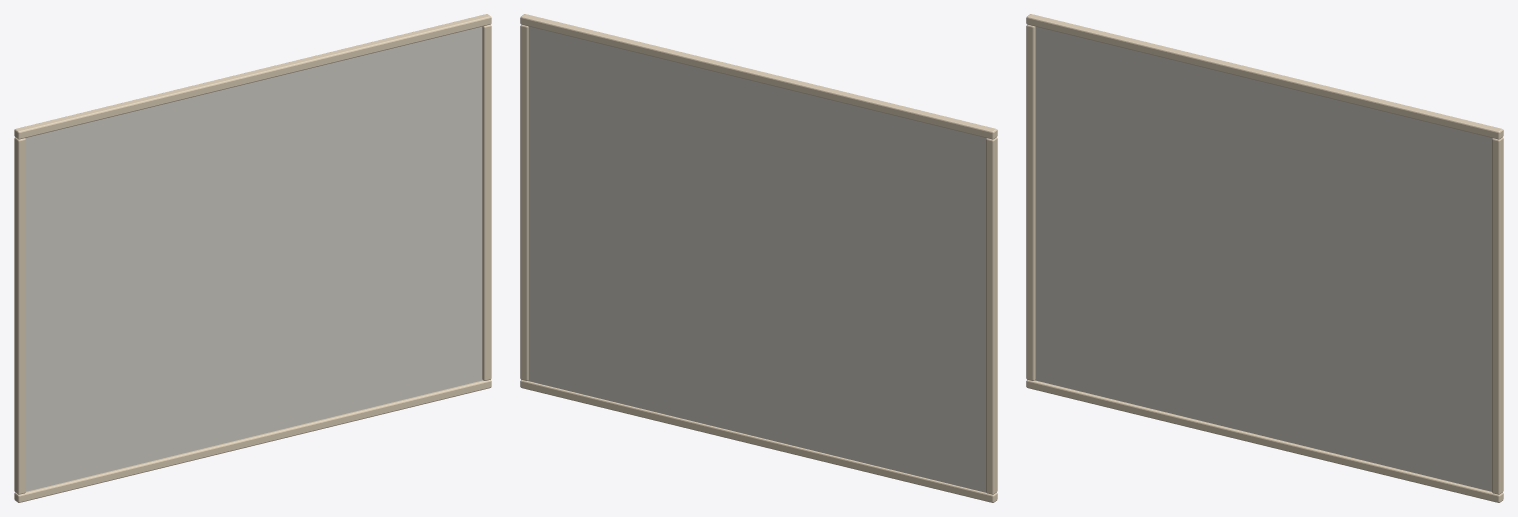
Rendered from mo_art_large.glb.
The picture shows the model from 3 angles, left to right: view 1: azimuth 30°, elevation 25°; view 2: azimuth 150°, elevation 25°; view 3: azimuth 330°, elevation 25°; orthographic projection.
Visible parts, largest first — view 1: canvas, frame; view 2: canvas, frame; view 3: canvas, frame.
Boxes of the visible parts, x1,y1,x2,y2 form: canvas: (25,26,482,491); frame: (14,14,491,502); canvas: (528,26,986,492); frame: (520,14,997,502); canvas: (1035,26,1492,491); frame: (1026,14,1503,502).
Bounding box in the file's own units: 1.2 × 0.9 × 0.02.
